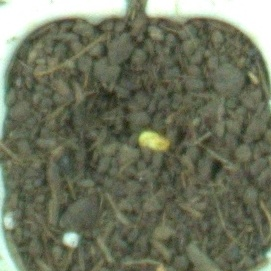pepper seed: (50, 49, 223, 205)
